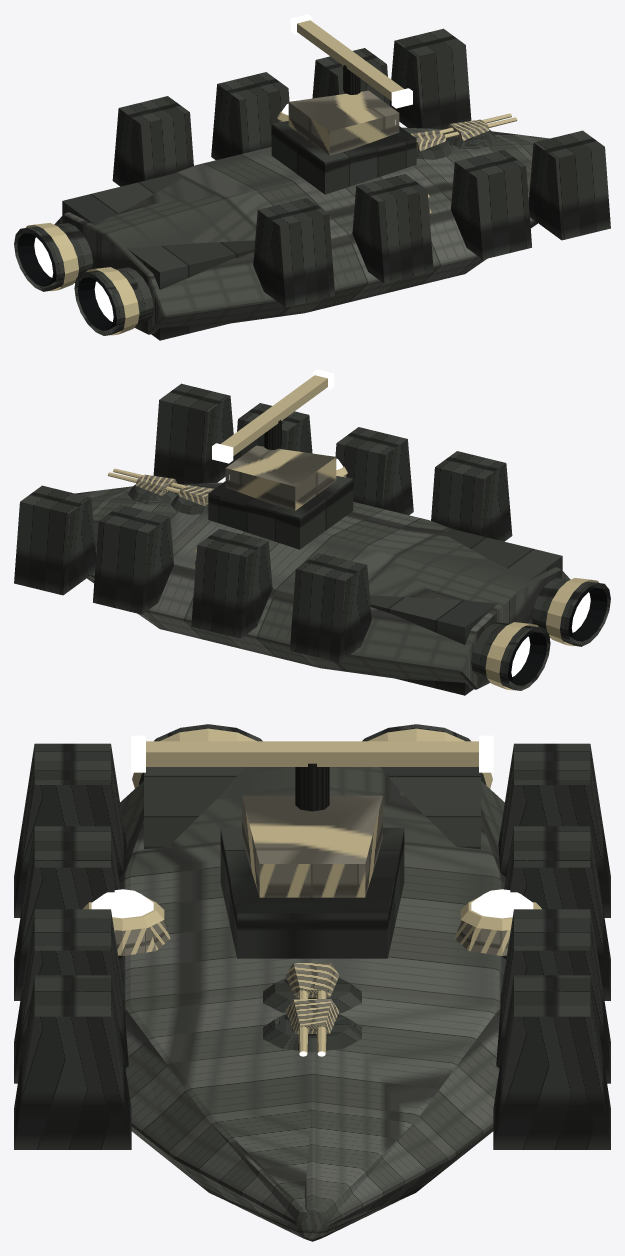
The model's file is command_ship.glb.
3 renders of one model, top to bottom at view 1: azimuth 30°, elevation 25°; view 2: azimuth 150°, elevation 25°; view 3: azimuth 270°, elevation 25°, orthographic. The views are drawn at different scales.
Parts seen in each view (by area): view 1: hull_body, engine_block, sensor_tower, weapon_turrets; view 2: hull_body, engine_block, sensor_tower, weapon_turrets; view 3: hull_body, sensor_tower, engine_block, weapon_turrets, shield_domes.
Boxes of the visible parts, x1,y1,x2,y2 form: hull_body: (54, 28, 610, 334); engine_block: (14, 173, 255, 340); sensor_tower: (271, 14, 416, 194); weapon_turrets: (411, 113, 517, 159); hull_body: (14, 383, 570, 689); engine_block: (369, 528, 610, 695); sensor_tower: (208, 369, 353, 549); weapon_turrets: (107, 468, 213, 514); hull_body: (14, 743, 610, 1241); sensor_tower: (131, 735, 493, 958); engine_block: (132, 724, 492, 849); weapon_turrets: (263, 963, 361, 1056); shield_domes: (83, 889, 541, 955).
Size of the model in its own units: 56 by 20.75 by 31.55.
1 material, 1 textured.
